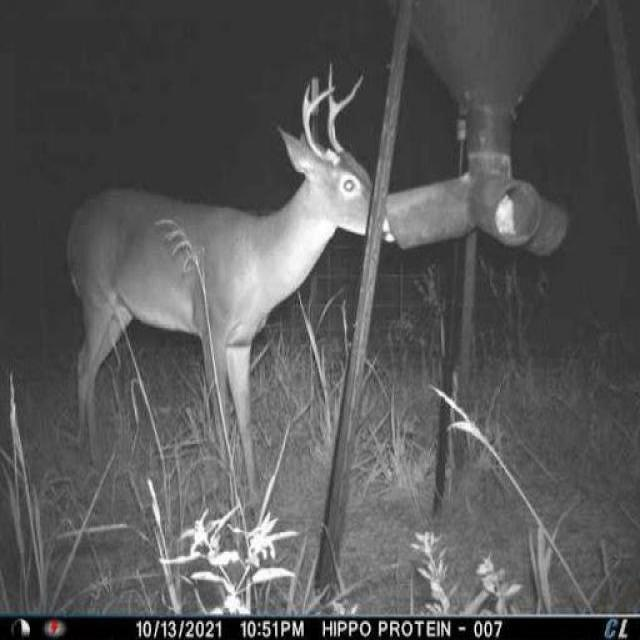deer: (58, 55, 392, 521)
